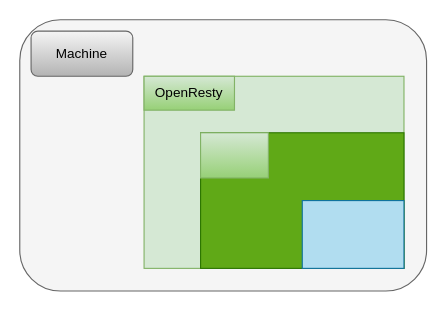
The diagram is 446 pixels wide and 311 high, and some of its shapes have lost their labels. The shapes that lost their labels are listed below. From the top down, each one's box as (x1, y1, x2, y2) in pixels, then its label:
(199, 132, 268, 178): Nginx
(301, 199, 404, 268): LuaJIT
